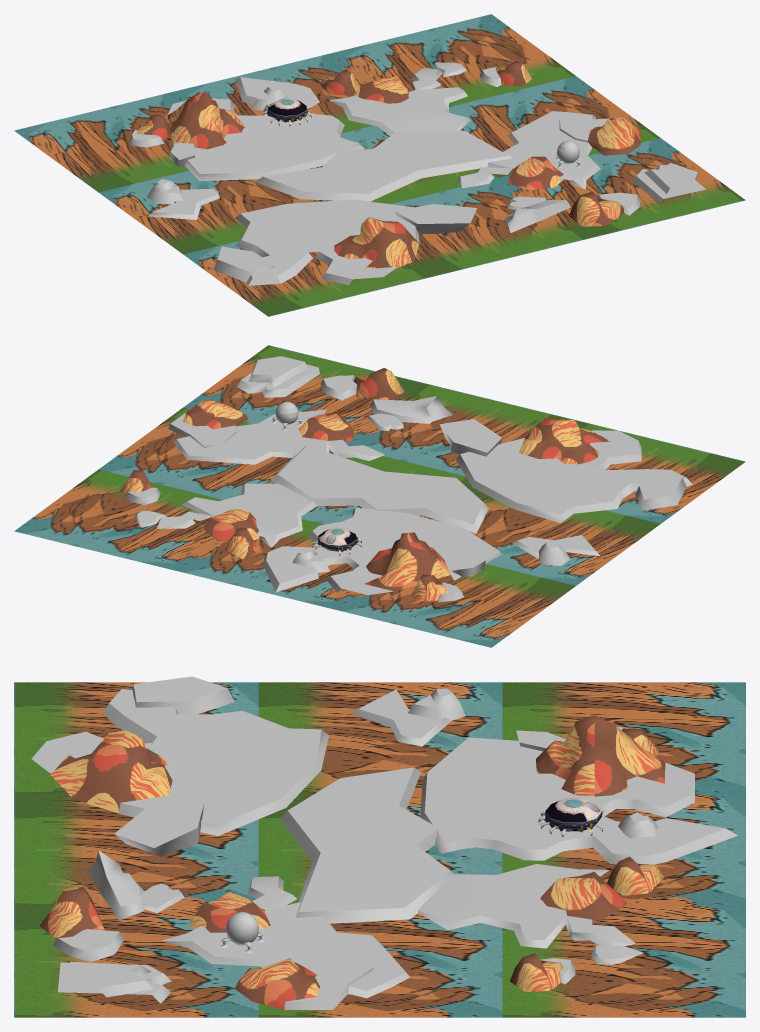
The model's file is nmkxcj.FBX.
3 renders of one model, top to bottom at view 1: azimuth 30°, elevation 25°; view 2: azimuth 150°, elevation 25°; view 3: azimuth 270°, elevation 25°, orthographic. The views are drawn at different scales.
Parts seen in each view (by area): view 1: Plane003, Object028, Object017, Object016, Object023, Object033, default004, default, Object015, Object018, default007, Object027 (+20 smaller); view 2: Plane003, Object028, Object016, Object017, Object033, Object023, default, default004, Object027, Object015, default007, Object029 (+20 smaller); view 3: Plane003, Object017, Object028, Object016, Object033, Object023, default, default004, Object018, Object015, default007, Object027 (+28 smaller).
Part boxes in pixels (x1,y1,x2,y2): Plane003: (14, 14, 745, 316); Object028: (241, 199, 415, 279); Object017: (167, 77, 357, 173); Object016: (263, 131, 508, 193); Object023: (329, 68, 466, 132); Object033: (460, 111, 596, 189); default004: (334, 217, 418, 268); default: (167, 92, 244, 149); Object015: (255, 155, 513, 201); Object018: (170, 77, 364, 180); default007: (587, 118, 641, 155); Object027: (235, 213, 419, 285); Plane003: (14, 345, 745, 647); Object028: (460, 430, 686, 514); Object016: (278, 445, 483, 524); Object017: (266, 507, 497, 594); Object033: (177, 409, 384, 459); Object023: (157, 483, 312, 547); default: (364, 532, 450, 591); default004: (519, 418, 611, 464); Object027: (456, 441, 692, 522); Object015: (271, 445, 488, 533); default007: (182, 399, 247, 429); Object029: (440, 419, 501, 452); Plane003: (14, 682, 745, 1017); Object017: (424, 737, 724, 856); Object028: (31, 689, 321, 825); Object016: (288, 767, 450, 912); Object033: (162, 876, 405, 990); Object023: (418, 864, 635, 944); default: (536, 715, 665, 796); default004: (50, 730, 172, 813); Object018: (420, 773, 737, 864); Object015: (280, 767, 454, 923); default007: (235, 958, 319, 1009); Object027: (103, 703, 328, 835).
Size of the model in its own units: 54126 by 5078 by 49940.
